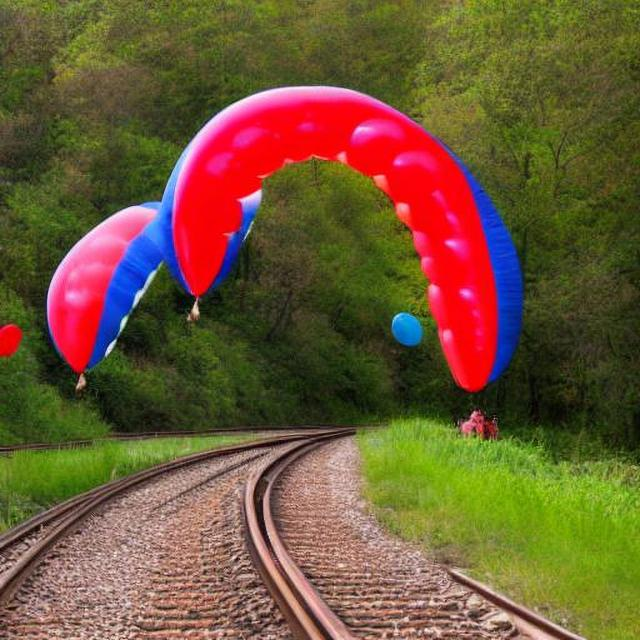balloon: (387, 308, 422, 346)
